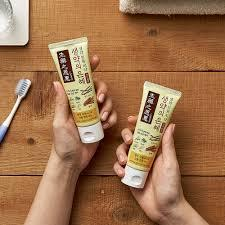toothpaste: (47, 32, 106, 146), (130, 73, 184, 189)
